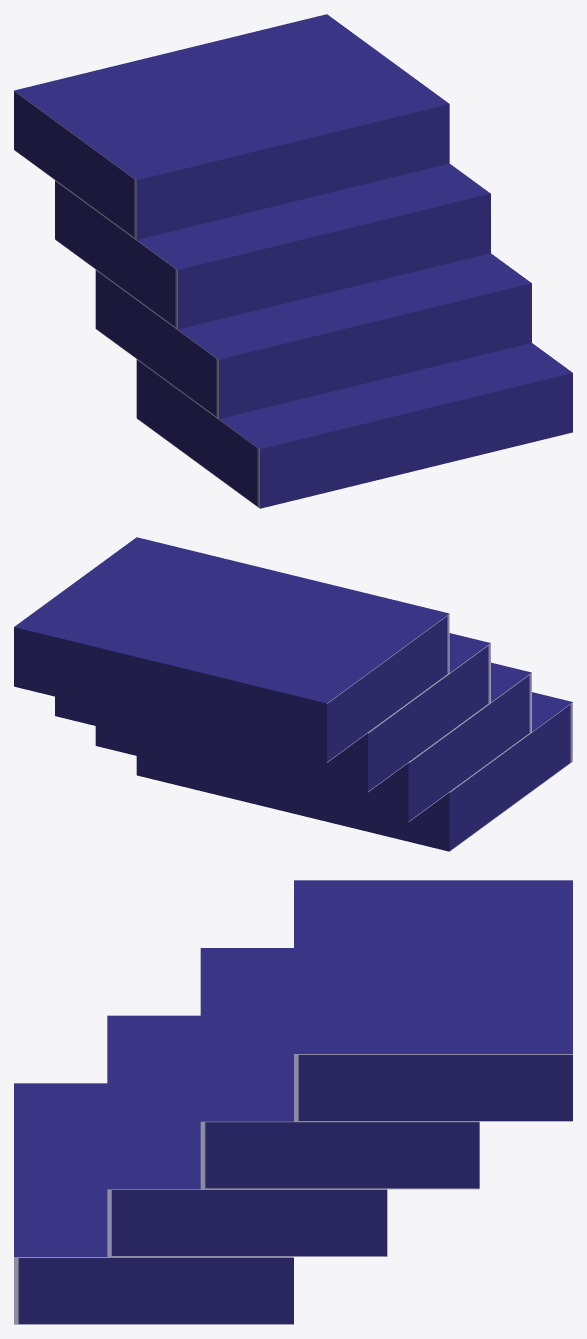
The model's file is Stairs.fbx.
3 renders of one model, top to bottom at view 1: azimuth 30°, elevation 25°; view 2: azimuth 150°, elevation 25°; view 3: azimuth 270°, elevation 25°, orthographic. The views are drawn at different scales.
Parts seen in each view (by area): view 1: Cube; view 2: Cube; view 3: Cube.
Boxes of the visible parts, left/top/right/bottom form: Cube: left=14, top=14, right=572, bottom=508; Cube: left=14, top=537, right=572, bottom=851; Cube: left=14, top=880, right=572, bottom=1324.
Size of the model in its own units: 1.32 by 0.96 by 1.8.
